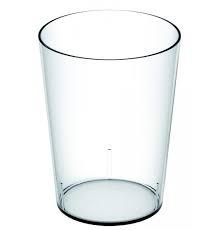glass: (34, 6, 186, 229)
